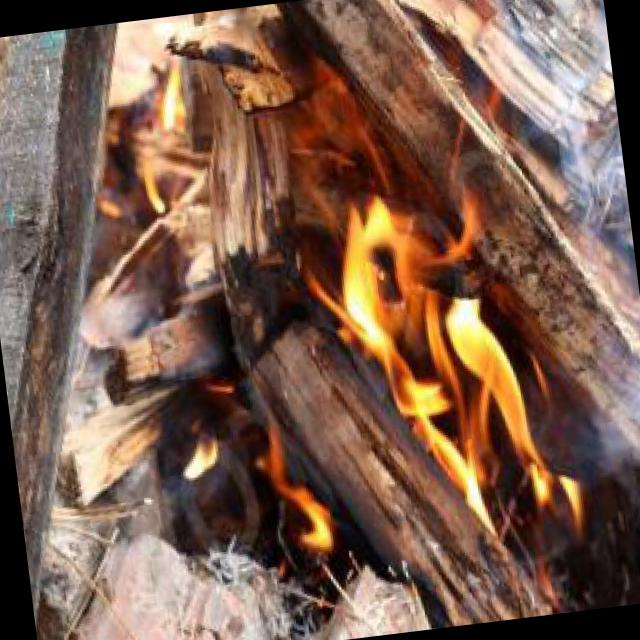fire: (168, 113, 598, 613)
